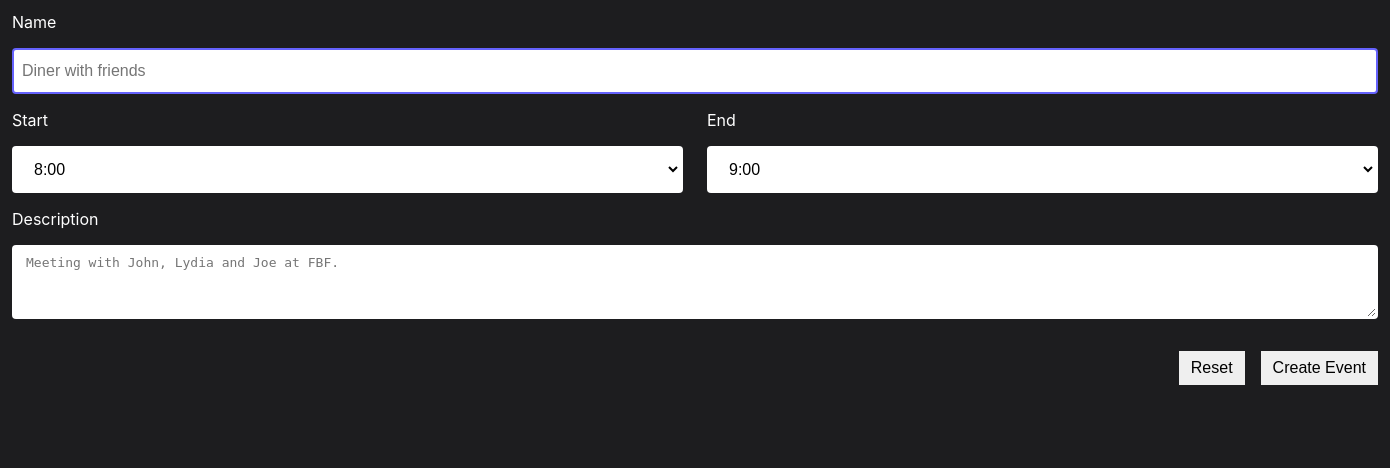
Event Creation Form › Validation: Max Characters
Type "Lorem ipsum dolor sit amet, consectetur adipiscing elore magna aliqua. Ut enim ad minim veniam, quis nostrud exercitation ullamco laboris nile" into the field with placeholder "Diner with friends".
click(695, 71); type("Lorem ipsum dolor sit amet, consectetur adipiscing elore magna aliqua. Ut enim ad minim veniam, quis nostrud exercitation ullamco laboris nile")  # box left=12, top=48, right=1378, bottom=94
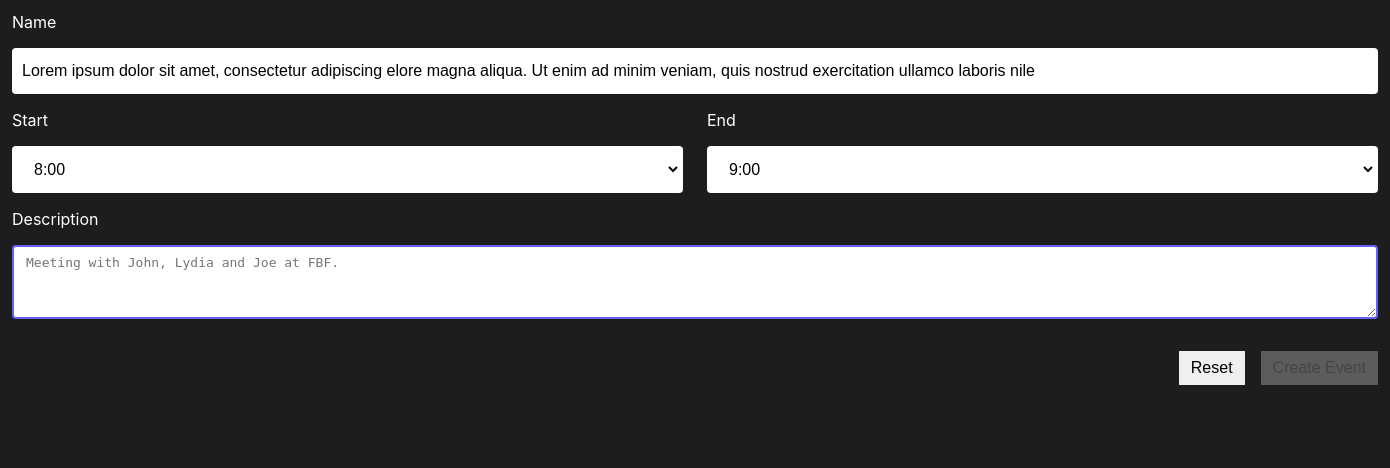
Type "Lorem ipsum dolor sit amet, consectetur adipiscing elit, sed do eiusmod tempor incididunt ut labore et dolore magna aliqua. Ut enim ad minim veniam, quis nostrud exercitation ullamco laboris nisi ut a" into the text box with placeholder "Meeting with John, Lydia and Joe at FBF.".
click(695, 282); type("Lorem ipsum dolor sit amet, consectetur adipiscing elit, sed do eiusmod tempor incididunt ut labore et dolore magna aliqua. Ut enim ad minim veniam, quis nostrud exercitation ullamco laboris nisi ut a")  # box left=12, top=245, right=1378, bottom=319
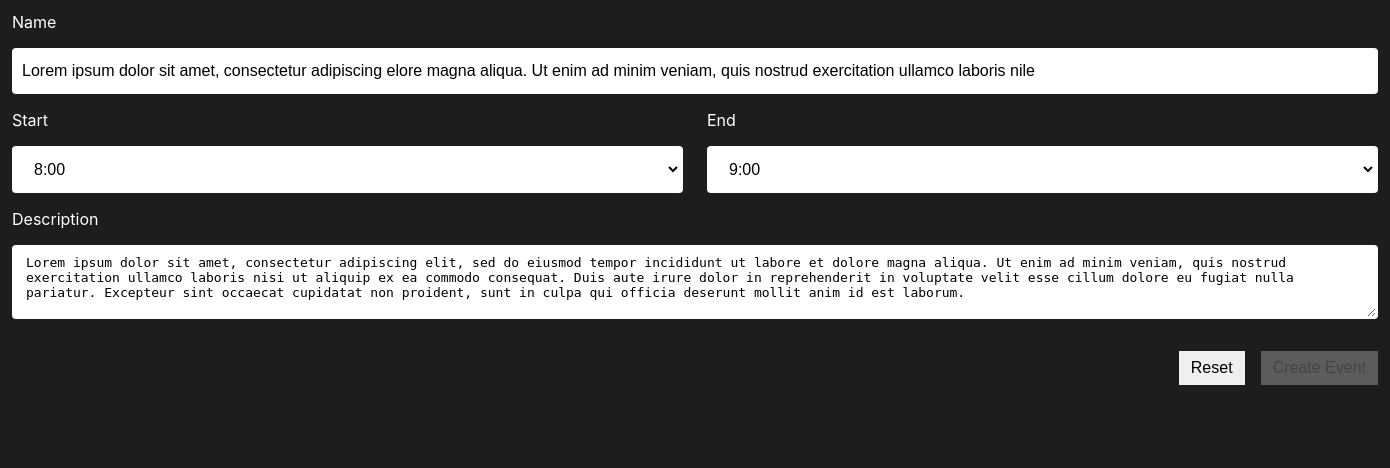
Click the button "Create Event".
click(1319, 368)  # box left=1261, top=351, right=1378, bottom=385
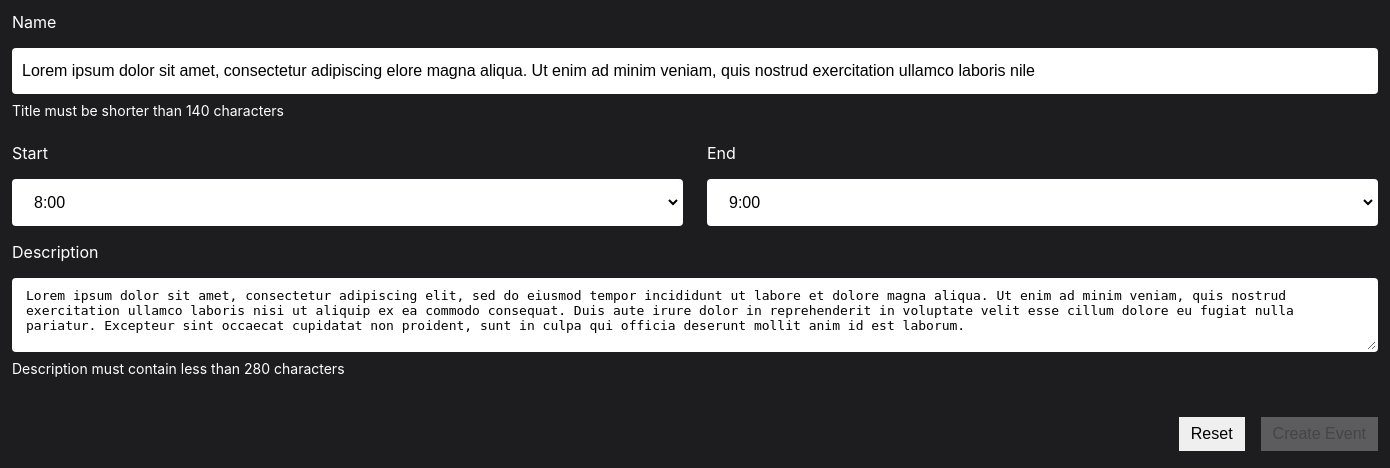
Expected: the text "Title must be shorter than 140 characters" is shown, left=12, top=102, right=284, bottom=119
Expected: the text "Description must contain less than 280 characters" is shown, left=12, top=360, right=344, bottom=377
